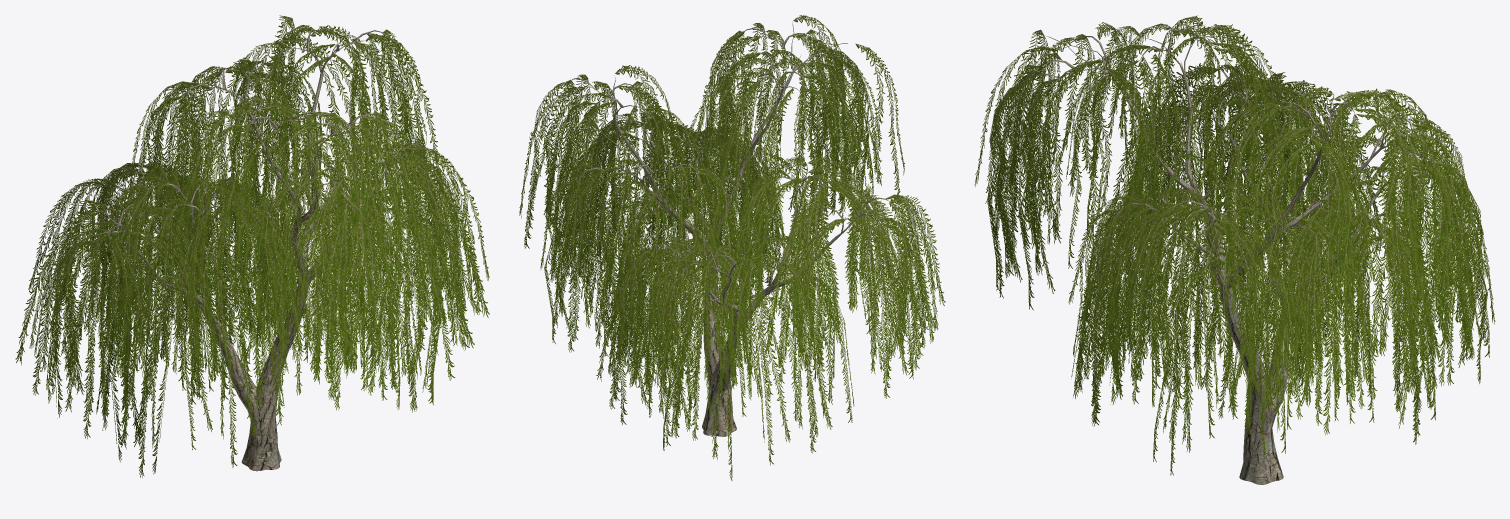
File: wilg.glb
3 renders of one model, left to right at view 1: azimuth 30°, elevation 25°; view 2: azimuth 150°, elevation 25°; view 3: azimuth 270°, elevation 25°, orthographic. The views are drawn at different scales.
Parts seen in each view (by area): view 1: willow branch_1_willow branch_1Mat_0, bark10_0_bark10_0Mat_0; view 2: willow branch_1_willow branch_1Mat_0, bark10_0_bark10_0Mat_0; view 3: willow branch_1_willow branch_1Mat_0, bark10_0_bark10_0Mat_0.
Boxes of the visible parts, box(x1,y1,x2,y2) form: willow branch_1_willow branch_1Mat_0: box(15, 15, 489, 477); bark10_0_bark10_0Mat_0: box(97, 28, 420, 471); willow branch_1_willow branch_1Mat_0: box(519, 15, 945, 480); bark10_0_bark10_0Mat_0: box(572, 22, 888, 436); willow branch_1_willow branch_1Mat_0: box(974, 15, 1495, 475); bark10_0_bark10_0Mat_0: box(1030, 24, 1432, 484).
Size of the model in its own units: 8.3 by 7.73 by 8.1.
2 materials, 2 textured.
